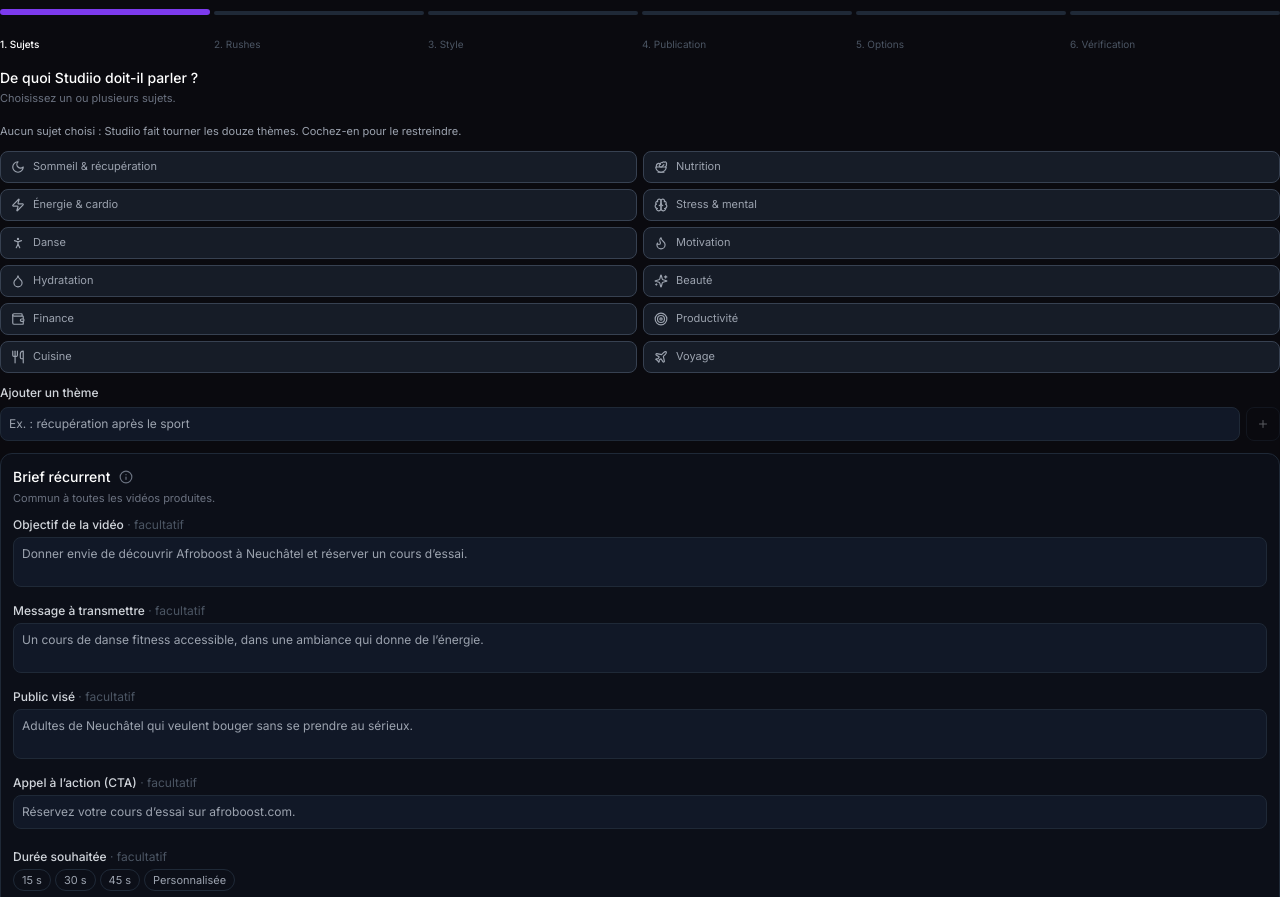
it: Les trois intentions › « produire seulement » masque les réseaux et explique le téléchargement
This screenshot has width=1280, height=897.
Expected: the text "De quoi Studiio doit-il parler ?" is shown, [0, 69, 198, 86]
Click the button named "Publication" at (747, 13), box [642, 11, 852, 15]
(page scrolled)
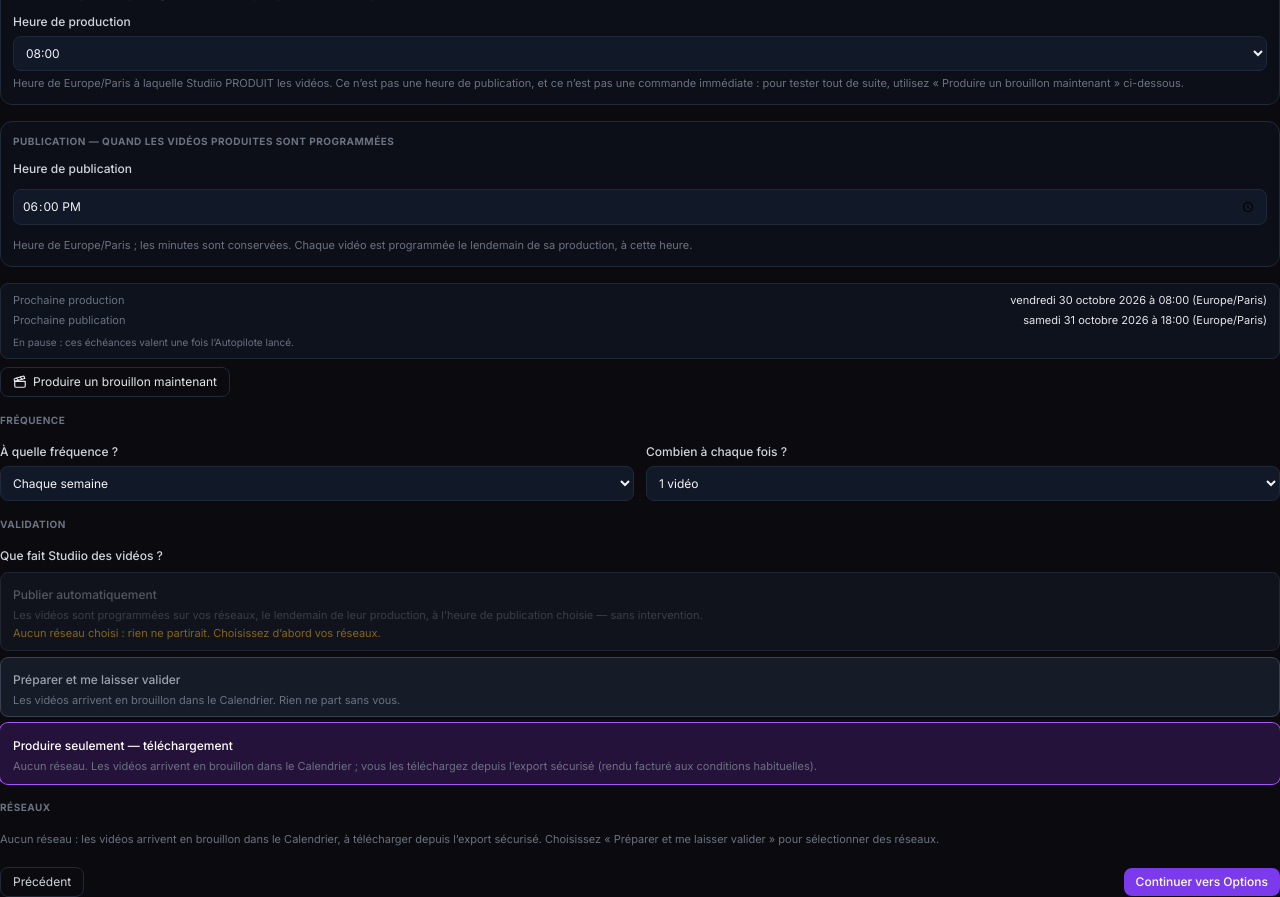
Result: the time field labelled "Heure de publication" is shown at [13, 188, 1267, 225]
Result: the text "export sécurisé" is shown at [0, 832, 614, 846]
